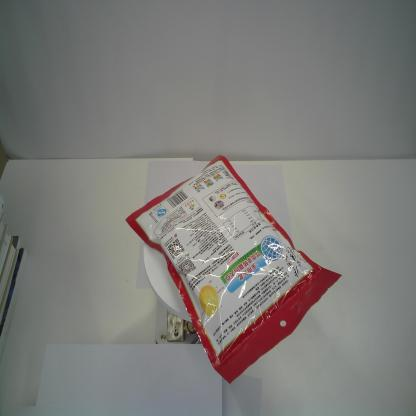Instant Drink: (125, 154, 342, 388)
